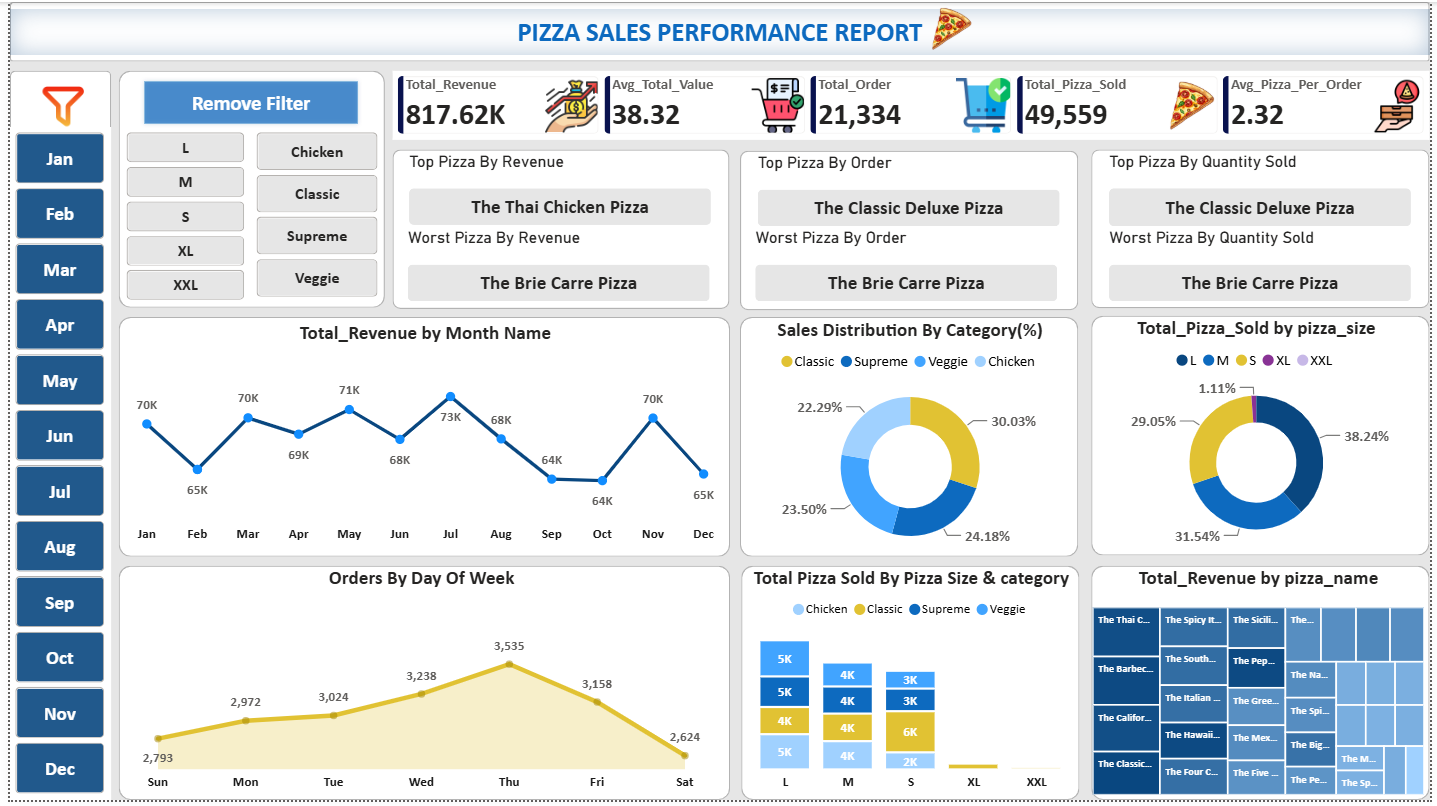

What the dashboard file says about the page in this screenshot:
{"tool":"powerbi","page":{"name":"Dashboard","canvas":[1280,720],"ordinal":0},"visuals":[{"type":"group","id":"g1","title":"Group 1","box":[0,0,1280,720.3],"z":0},{"type":"shape","box":[0,62.5,91.2,657.5],"z":0,"group":"g1"},{"type":"cardVisual","fields":{"Data":["PIZZA SALES.Total_Revenue","PIZZA SALES.Avg_Total_Value","PIZZA SALES.Total_Order","PIZZA SALES.Total_Pizza_Sold","PIZZA SALES.Avg_Pizza_Per_Order"]},"box":[344.6,62.2,935.5,62.2],"z":1000},{"type":"shape","box":[97.5,62.5,240,213.8],"z":1000,"group":"g1"},{"type":"lineChart","fields":{"Category":["PIZZA SALES.Month Name"],"Y":["PIZZA SALES.Total_Revenue"]},"box":[100.8,287.4,548.6,209],"z":2000},{"type":"shape","box":[97.5,508.8,551.2,211.2],"z":2000,"group":"g1"},{"type":"shape","box":[97.5,283.8,551.2,216.2],"z":3000,"group":"g1"},{"type":"areaChart","title":"Orders By Day Of Week","fields":{"Category":["PIZZA SALES.Day Name"],"Y":["PIZZA SALES.Total_Order"]},"box":[97,508.8,548.6,211.5],"z":3000},{"type":"shape","box":[345,132.5,303.8,143.8],"z":4000,"group":"g1"},{"type":"donutChart","title":"Sales Distribution By Category(%)","fields":{"Category":["PIZZA SALES.pizza_category"],"Y":["PIZZA SALES.Total_Pizza_Sold"]},"box":[648.1,283.6,327.2,216.4],"z":4000},{"type":"shape","box":[658.8,133.8,305,143.8],"z":5000,"group":"g1"},{"type":"donutChart","fields":{"Y":["PIZZA SALES.Total_Pizza_Sold"],"Category":["PIZZA SALES.pizza_size"]},"box":[971.5,282.4,304.8,216.4],"z":5000},{"type":"shape","box":[975.3,133.1,304.8,143.1],"z":6000,"group":"g1"},{"type":"columnChart","title":"Total Pizza Sold By Pizza Size & category","fields":{"Y":["PIZZA SALES.Total_Pizza_Sold"],"Series":["PIZZA SALES.pizza_category"],"Category":["PIZZA SALES.pizza_size"]},"box":[649.3,508.8,327.2,211.5],"z":6000},{"type":"shape","box":[658.8,283.8,305,216.2],"z":7000,"group":"g1"},{"type":"treemap","fields":{"Group":["PIZZA SALES.pizza_name"],"Values":["PIZZA SALES.Total_Revenue"]},"box":[971.5,508.8,308.5,211.5],"z":7000},{"type":"advancedSlicerVisual","title":"Top Pizza By Revenue","fields":{"Label":["PIZZA SALES.Total_Revenue"],"Values":["PIZZA SALES.pizza_name"]},"box":[354.5,135.6,282.7,71.4],"z":8000},{"type":"shape","box":[975,282.5,305,216.2],"z":8000,"group":"g1"},{"type":"advancedSlicerVisual","title":"Worst Pizza By Revenue","fields":{"Label":["PIZZA SALES.Total_Revenue"],"Values":["PIZZA SALES.pizza_name"]},"box":[354,204.5,282.7,71.4],"z":9000},{"type":"shape","box":[975,508.8,305,211.2],"z":9000,"group":"g1"},{"type":"advancedSlicerVisual","title":"Top Pizza By Order","fields":{"Values":["PIZZA SALES.pizza_name"],"Label":["PIZZA SALES.Total_Order"]},"box":[669.6,135.8,282.7,71.4],"z":10000},{"type":"shape","box":[659.3,508.8,305,211.2],"z":10000,"group":"g1"},{"type":"shape","box":[0,0,1280,53.8],"z":11000,"group":"g1"},{"type":"advancedSlicerVisual","title":"Worst Pizza By Order","fields":{"Values":["PIZZA SALES.pizza_name"],"Label":["PIZZA SALES.Total_Order"]},"box":[666.9,204.5,282.7,71.4],"z":11000},{"type":"shape","box":[345,62.5,935,62.5],"z":12000,"group":"g1"},{"type":"advancedSlicerVisual","title":"Top Pizza By Quantity Sold","fields":{"Values":["PIZZA SALES.pizza_name"],"Label":["PIZZA SALES.Total_Order"]},"box":[986.5,135.6,282.4,72.1],"z":12000},{"type":"advancedSlicerVisual","title":"Worst Pizza By Quantity Sold","fields":{"Values":["PIZZA SALES.pizza_name"],"Label":["Sum(PIZZA SALES.quantity)"]},"box":[986.6,204.5,282.7,71.4],"z":13000},{"type":"textbox","box":[99.5,390.6,301,10],"z":13000,"group":"g1"},{"type":"textbox","box":[0,6.2,1280,41.1],"z":14000,"group":"g1"},{"type":"advancedSlicerVisual","fields":{"Values":["PIZZA SALES.pizza_category"]},"box":[217.7,113.2,119.4,161.7],"z":14000},{"type":"image","box":[6.2,67.2,82.1,52.2],"z":15000,"group":"g1"},{"type":"advancedSlicerVisual","fields":{"Values":["PIZZA SALES.pizza_size"]},"box":[100.8,113.2,116.9,161.7],"z":15000},{"type":"advancedSlicerVisual","fields":{"Values":["PIZZA SALES.Month Name"]},"box":[0,113.2,90.8,607.1],"z":16000},{"type":"actionButton","box":[116.9,67.2,200.3,46],"z":17000},{"type":"image","box":[823.5,2.5,47.3,44.8],"z":18000}]}

Visuals, with their boxes in screenshot pixels (x1, y1, x2, y2), scaled from the page's 1280x720 canvas onto the 1437x806 screenshot:
"Group 1" group: [x1=0, y1=0, x2=1436, y2=805]
shape: [x1=0, y1=70, x2=102, y2=805]
cardVisual - PIZZA SALES.Total_Revenue x PIZZA SALES.Avg_Total_Value: [x1=387, y1=70, x2=1436, y2=139]
shape: [x1=109, y1=70, x2=379, y2=309]
lineChart - PIZZA SALES.Month Name x PIZZA SALES.Total_Revenue: [x1=113, y1=322, x2=729, y2=556]
shape: [x1=109, y1=570, x2=728, y2=805]
shape: [x1=109, y1=318, x2=728, y2=560]
"Orders By Day Of Week" areaChart: [x1=109, y1=570, x2=725, y2=805]
shape: [x1=387, y1=148, x2=728, y2=309]
"Sales Distribution By Category(%)" donutChart: [x1=728, y1=317, x2=1095, y2=560]
shape: [x1=740, y1=150, x2=1082, y2=311]
donutChart - PIZZA SALES.Total_Pizza_Sold x PIZZA SALES.pizza_size: [x1=1091, y1=316, x2=1433, y2=558]
shape: [x1=1095, y1=149, x2=1436, y2=309]
"Total Pizza Sold By Pizza Size & category" columnChart: [x1=729, y1=570, x2=1096, y2=805]
shape: [x1=740, y1=318, x2=1082, y2=560]
treemap - PIZZA SALES.pizza_name x PIZZA SALES.Total_Revenue: [x1=1091, y1=570, x2=1436, y2=805]
"Top Pizza By Revenue" advancedSlicerVisual: [x1=398, y1=152, x2=715, y2=232]
shape: [x1=1095, y1=316, x2=1436, y2=558]
"Worst Pizza By Revenue" advancedSlicerVisual: [x1=397, y1=229, x2=715, y2=309]
shape: [x1=1095, y1=570, x2=1436, y2=805]
"Top Pizza By Order" advancedSlicerVisual: [x1=752, y1=152, x2=1069, y2=232]
shape: [x1=740, y1=570, x2=1083, y2=805]
shape: [x1=0, y1=0, x2=1436, y2=60]
"Worst Pizza By Order" advancedSlicerVisual: [x1=749, y1=229, x2=1066, y2=309]
shape: [x1=387, y1=70, x2=1436, y2=140]
"Top Pizza By Quantity Sold" advancedSlicerVisual: [x1=1108, y1=152, x2=1425, y2=233]
"Worst Pizza By Quantity Sold" advancedSlicerVisual: [x1=1108, y1=229, x2=1425, y2=309]
textbox: [x1=112, y1=437, x2=450, y2=448]
textbox: [x1=0, y1=7, x2=1436, y2=53]
advancedSlicerVisual - PIZZA SALES.pizza_category: [x1=244, y1=127, x2=378, y2=308]
image: [x1=7, y1=75, x2=99, y2=134]
advancedSlicerVisual - PIZZA SALES.pizza_size: [x1=113, y1=127, x2=244, y2=308]
advancedSlicerVisual - PIZZA SALES.Month Name: [x1=0, y1=127, x2=102, y2=805]
actionButton: [x1=131, y1=75, x2=356, y2=127]
image: [x1=925, y1=3, x2=978, y2=53]
